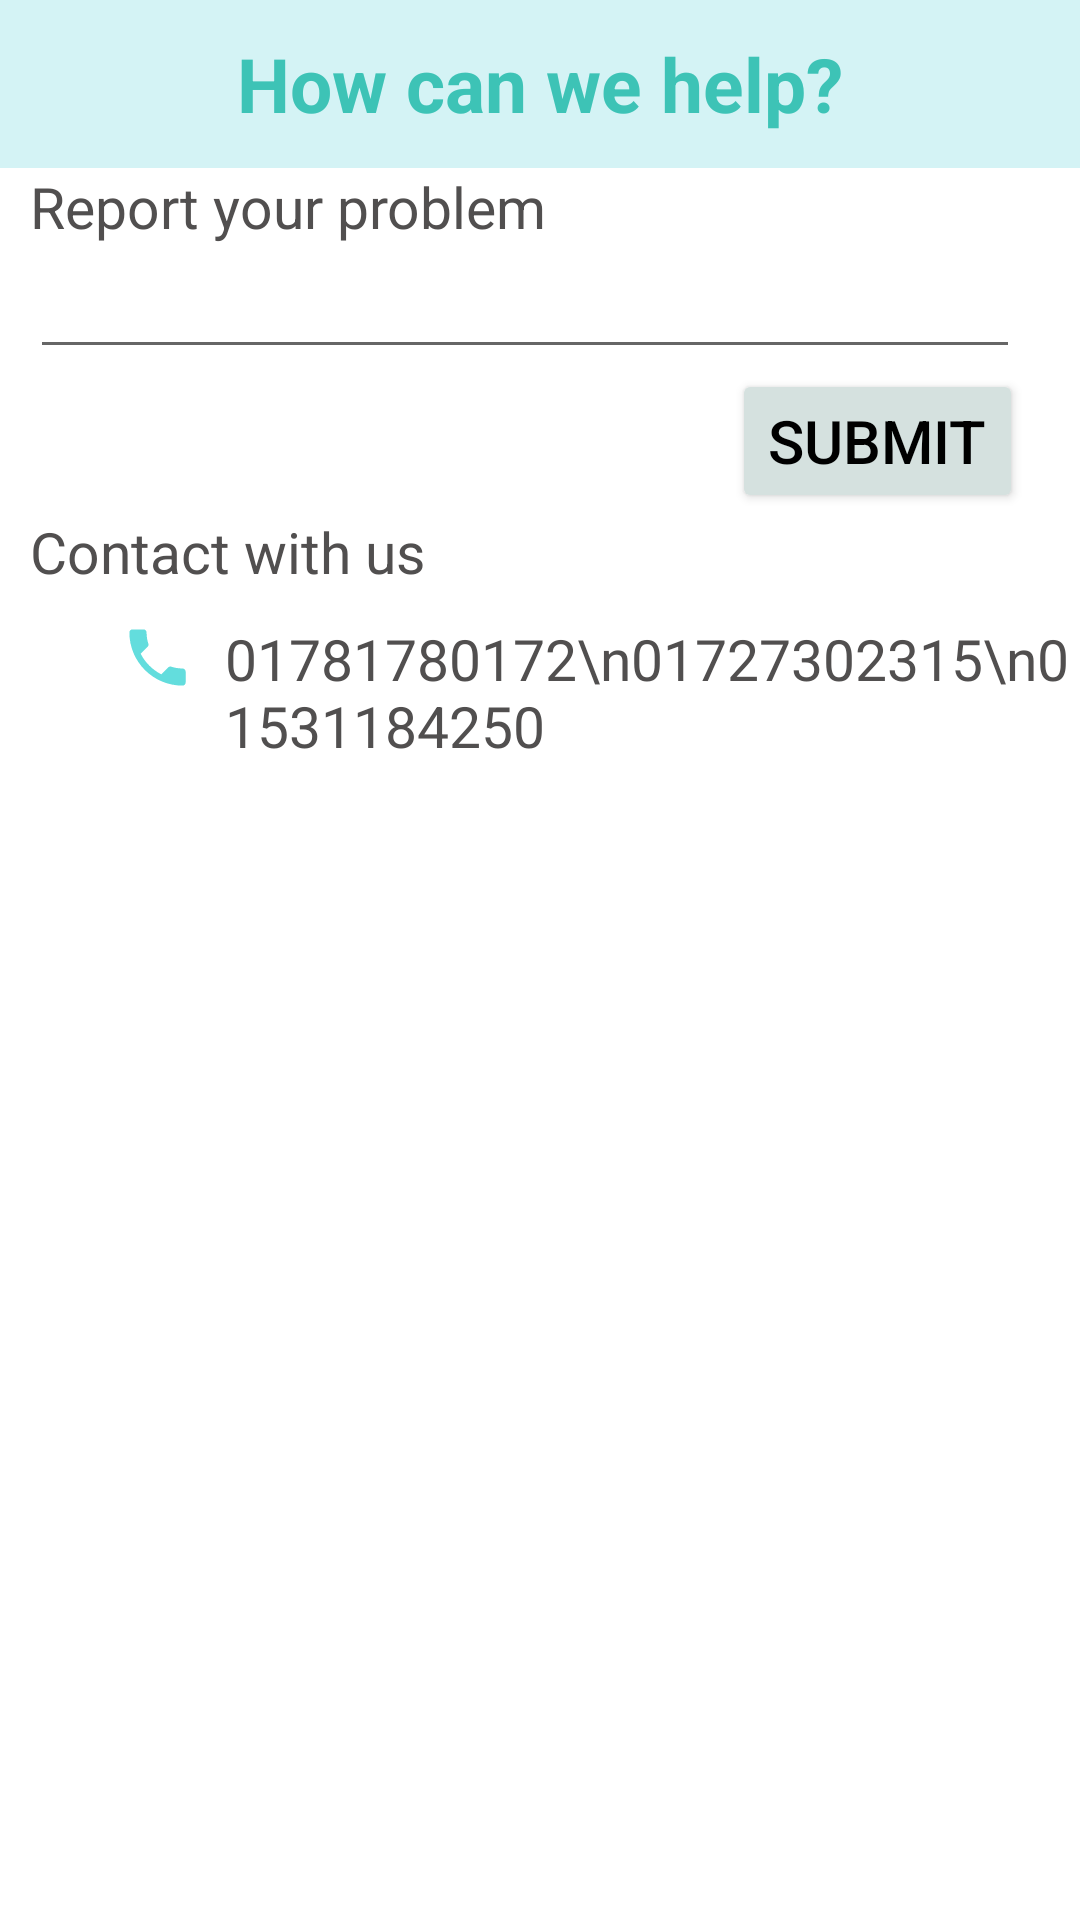

Where to tap for icons on this 1080 x 1920 app screen, as (x,y):
phone: (157,657)
